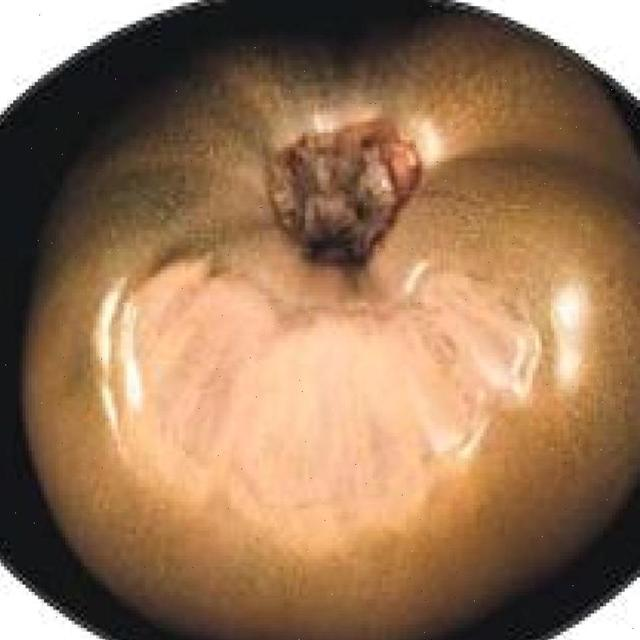Sunscald Fruit: (64, 141, 365, 375)
